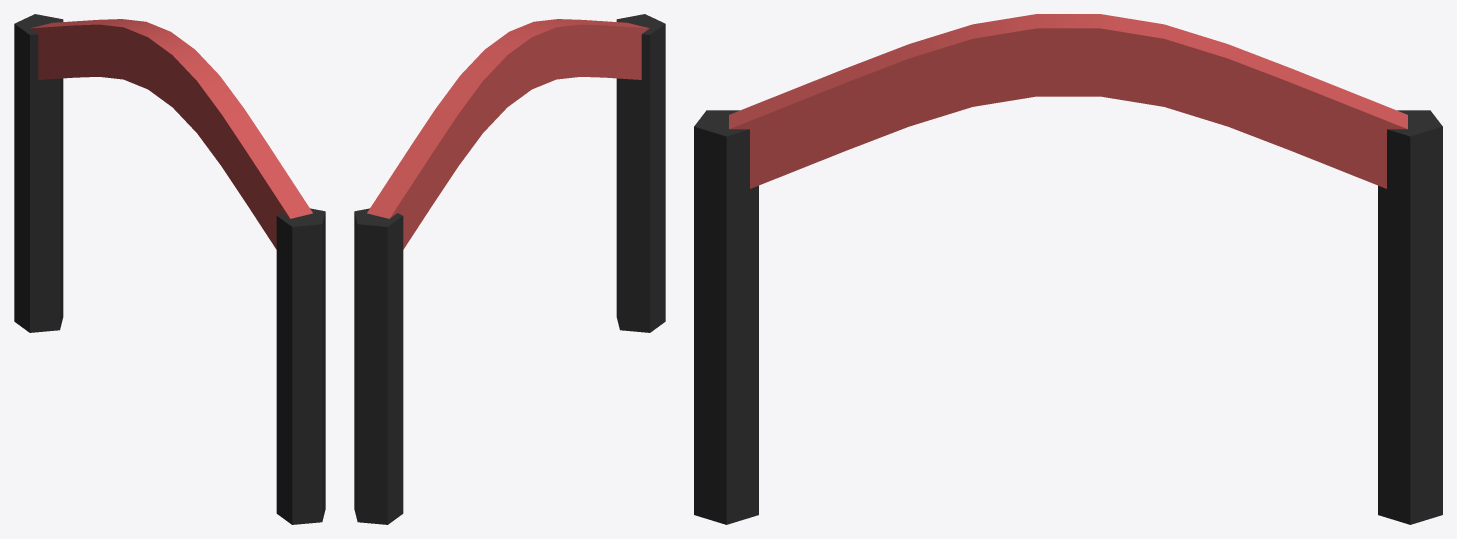
Rendered from finishLine.fbx.
3 renders of one model, left to right at view 1: azimuth 30°, elevation 25°; view 2: azimuth 150°, elevation 25°; view 3: azimuth 270°, elevation 25°, orthographic. The views are drawn at different scales.
Visible parts, largest first — view 1: pCube1, pCylinder2, pCylinder1; view 2: pCube1, pCylinder1, pCylinder2; view 3: pCube1, pCylinder1, pCylinder2.
Part boxes in pixels (x1,y1,x2,y2): pCube1: [30, 19, 312, 249]; pCylinder2: [276, 208, 325, 524]; pCylinder1: [14, 14, 63, 332]; pCube1: [367, 19, 649, 249]; pCylinder1: [354, 208, 403, 524]; pCylinder2: [616, 14, 665, 332]; pCube1: [729, 14, 1407, 188]; pCylinder1: [1378, 110, 1442, 524]; pCylinder2: [694, 110, 758, 524].
Size of the model in its own units: 1.81 by 15.79 by 21.9.
